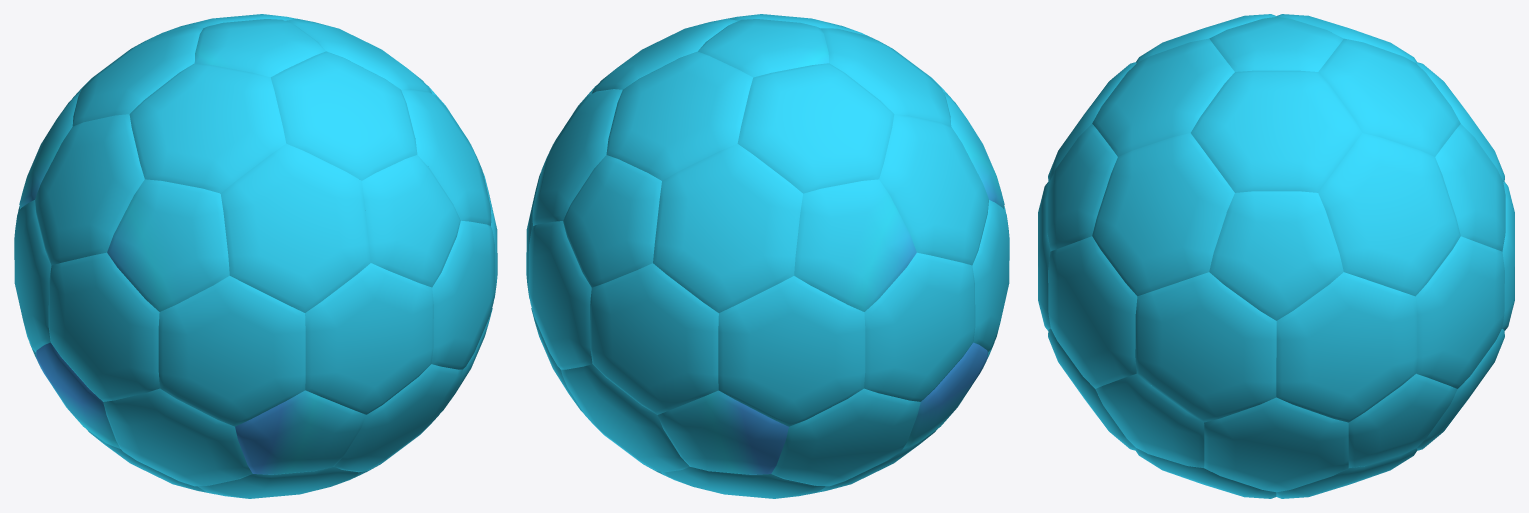
File: level_153.fbx
3 views of the same model, side by side, from view 1: azimuth 30°, elevation 25°; view 2: azimuth 150°, elevation 25°; view 3: azimuth 270°, elevation 25° (orthographic).
Visible parts, largest first — view 1: Cube_L1_15.002, Cube_L1_9.002, Cube_L1_11.002, Cube_L1_21, Cube_L1_23, Cube_L1_1.002, Cube_L1_4.002, Cube_L1_3.002, Cube_L1_27, Cube_L1_6.002, Cube_L1_13.002, Cube_L1_33 (+11 smaller); view 2: Cube_L1_16.002, Cube_L1_8.002, Cube_L1_12.002, Cube_L1_20.001, Cube_L1_24, Cube_L1.002, Cube_L1_5.002, Cube_L1_3.002, Cube_L1_28, Cube_L1_7.002, Cube_L1_14.002, Cube_L1_32 (+11 smaller); view 3: Cube_L1_41, Cube_L1_40, Cube_L1_35, Cube_L1_34, Cube_L1_31, Cube_L1_39, Cube_L1_38, Cube_L1_32, Cube_L1_33, Cube_L1_23, Cube_L1_24, Cube_L1_36 (+14 smaller).
Boxes of the visible parts, left/top/right/bottom form: Cube_L1_15.002: left=221, top=143, right=370, bottom=312; Cube_L1_9.002: left=158, top=276, right=305, bottom=426; Cube_L1_11.002: left=129, top=63, right=286, bottom=193; Cube_L1_21: left=305, top=263, right=433, bottom=414; Cube_L1_23: left=270, top=51, right=417, bottom=180; Cube_L1_1.002: left=48, top=252, right=159, bottom=401; Cube_L1_4.002: left=107, top=179, right=229, bottom=311; Cube_L1_3.002: left=35, top=114, right=144, bottom=265; Cube_L1_27: left=362, top=155, right=460, bottom=287; Cube_L1_6.002: left=103, top=388, right=252, bottom=486; Cube_L1_13.002: left=235, top=390, right=366, bottom=474; Cube_L1_33: left=431, top=220, right=495, bottom=369; Cube_L1_16.002: left=653, top=144, right=802, bottom=312; Cube_L1_8.002: left=718, top=276, right=865, bottom=426; Cube_L1_12.002: left=737, top=63, right=894, bottom=193; Cube_L1_20.001: left=590, top=263, right=718, bottom=414; Cube_L1_24: left=606, top=51, right=753, bottom=180; Cube_L1.002: left=864, top=252, right=975, bottom=401; Cube_L1_5.002: left=794, top=179, right=916, bottom=311; Cube_L1_3.002: left=879, top=114, right=988, bottom=265; Cube_L1_28: left=563, top=155, right=661, bottom=287; Cube_L1_7.002: left=771, top=388, right=920, bottom=486; Cube_L1_14.002: left=657, top=390, right=788, bottom=474; Cube_L1_32: left=528, top=221, right=592, bottom=369; Cube_L1_41: left=1135, top=272, right=1276, bottom=422; Cube_L1_40: left=1276, top=272, right=1417, bottom=422; Cube_L1_35: left=1318, top=133, right=1460, bottom=296; Cube_L1_34: left=1092, top=133, right=1234, bottom=296; Cube_L1_31: left=1191, top=70, right=1362, bottom=192; Cube_L1_39: left=1209, top=191, right=1343, bottom=320; Cube_L1_38: left=1204, top=397, right=1348, bottom=492; Cube_L1_32: left=1415, top=236, right=1504, bottom=388; Cube_L1_33: left=1048, top=236, right=1137, bottom=388; Cube_L1_23: left=1092, top=38, right=1234, bottom=156; Cube_L1_24: left=1318, top=38, right=1460, bottom=156; Cube_L1_36: left=1095, top=373, right=1204, bottom=467.
Size of the model in its own units: 10.65 by 10.6 by 10.49.
